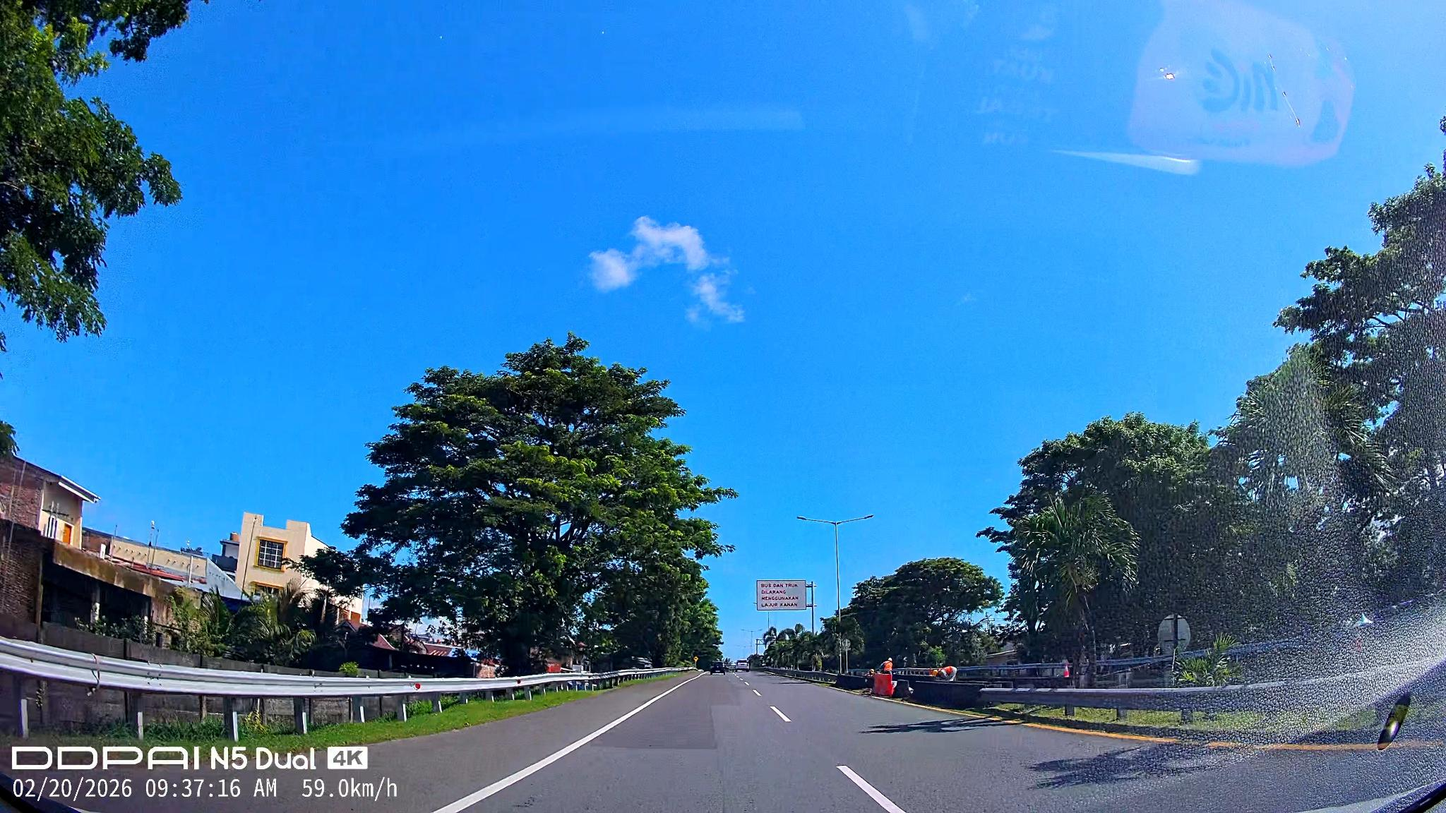rambu_teks: (756, 579, 807, 611)
